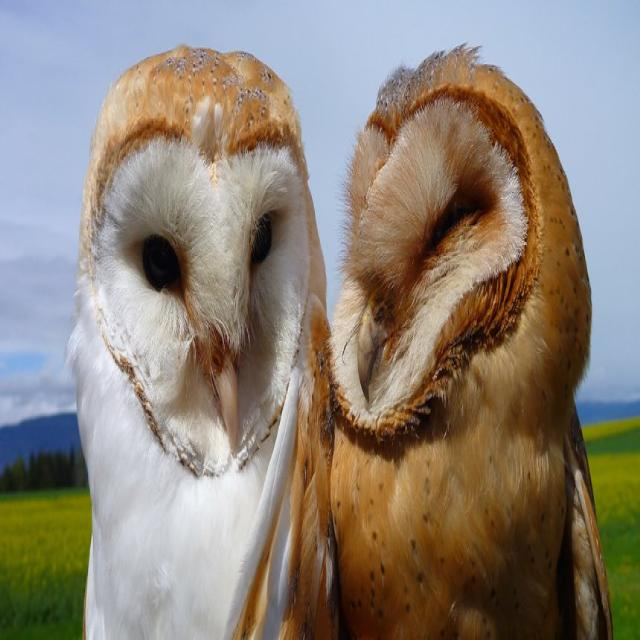Owl: (323, 38, 617, 640), (61, 34, 334, 640)
